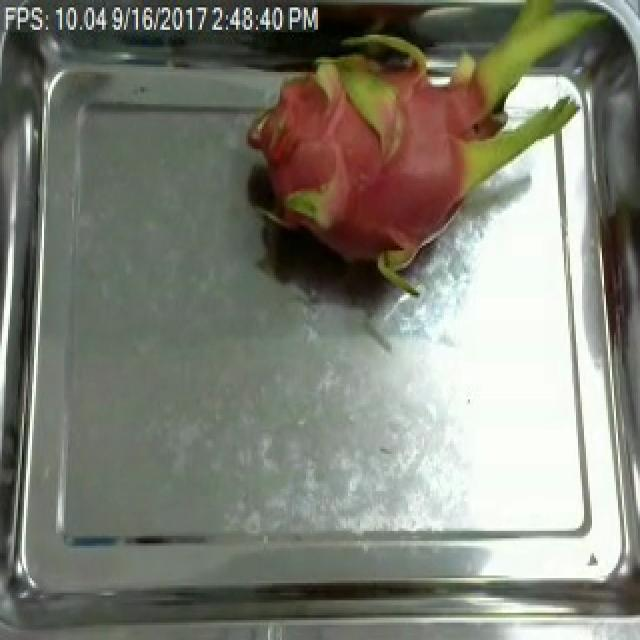fruit: (228, 0, 608, 318)
